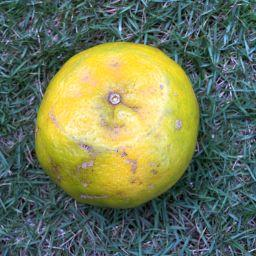Unripe: (36, 40, 196, 199)
